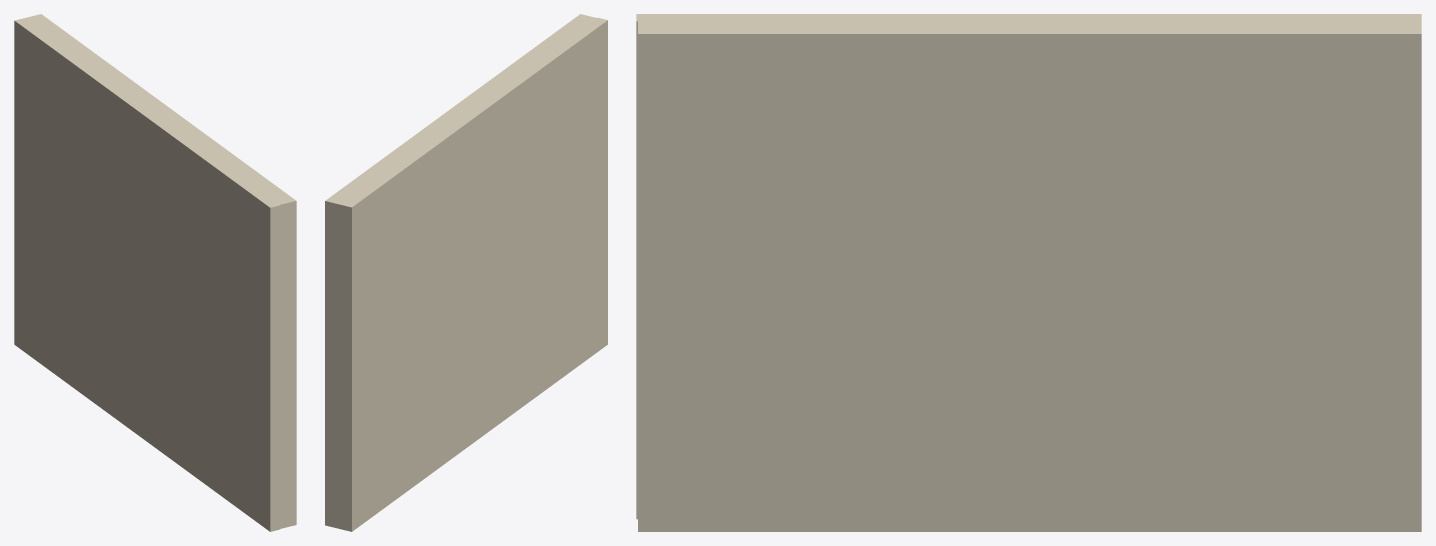
The picture shows the model from 3 angles, left to right: view 1: azimuth 30°, elevation 25°; view 2: azimuth 150°, elevation 25°; view 3: azimuth 270°, elevation 25°; orthographic projection. The views are drawn at different scales.
Parts seen in each view (by area): view 1: B-FF-WALL-002; view 2: B-FF-WALL-002; view 3: B-FF-WALL-002.
Boxes of the visible parts, x1,y1,x2,y2 form: B-FF-WALL-002: (14,14,296,531); B-FF-WALL-002: (325,14,607,531); B-FF-WALL-002: (636,14,1421,531).
Size of the model in its own units: 0.21 by 2.42 by 3.46.
